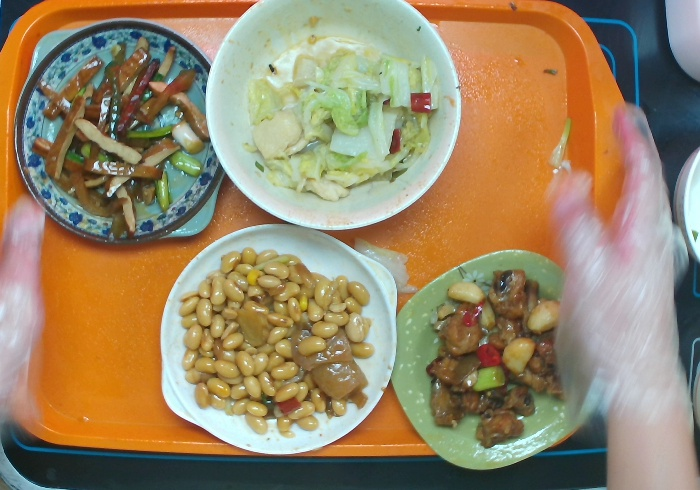NLDX-Bai_Se_Shuang_Er_Die: (158, 224, 398, 455)
NLDX-Bai_Se_Yuan_Wan: (204, 1, 462, 232)
NLDX-Lv_Hua_Fang_Die: (391, 250, 594, 471)
NLDX-Qing_Hua_Shuang_Er_Die: (12, 19, 223, 242)
